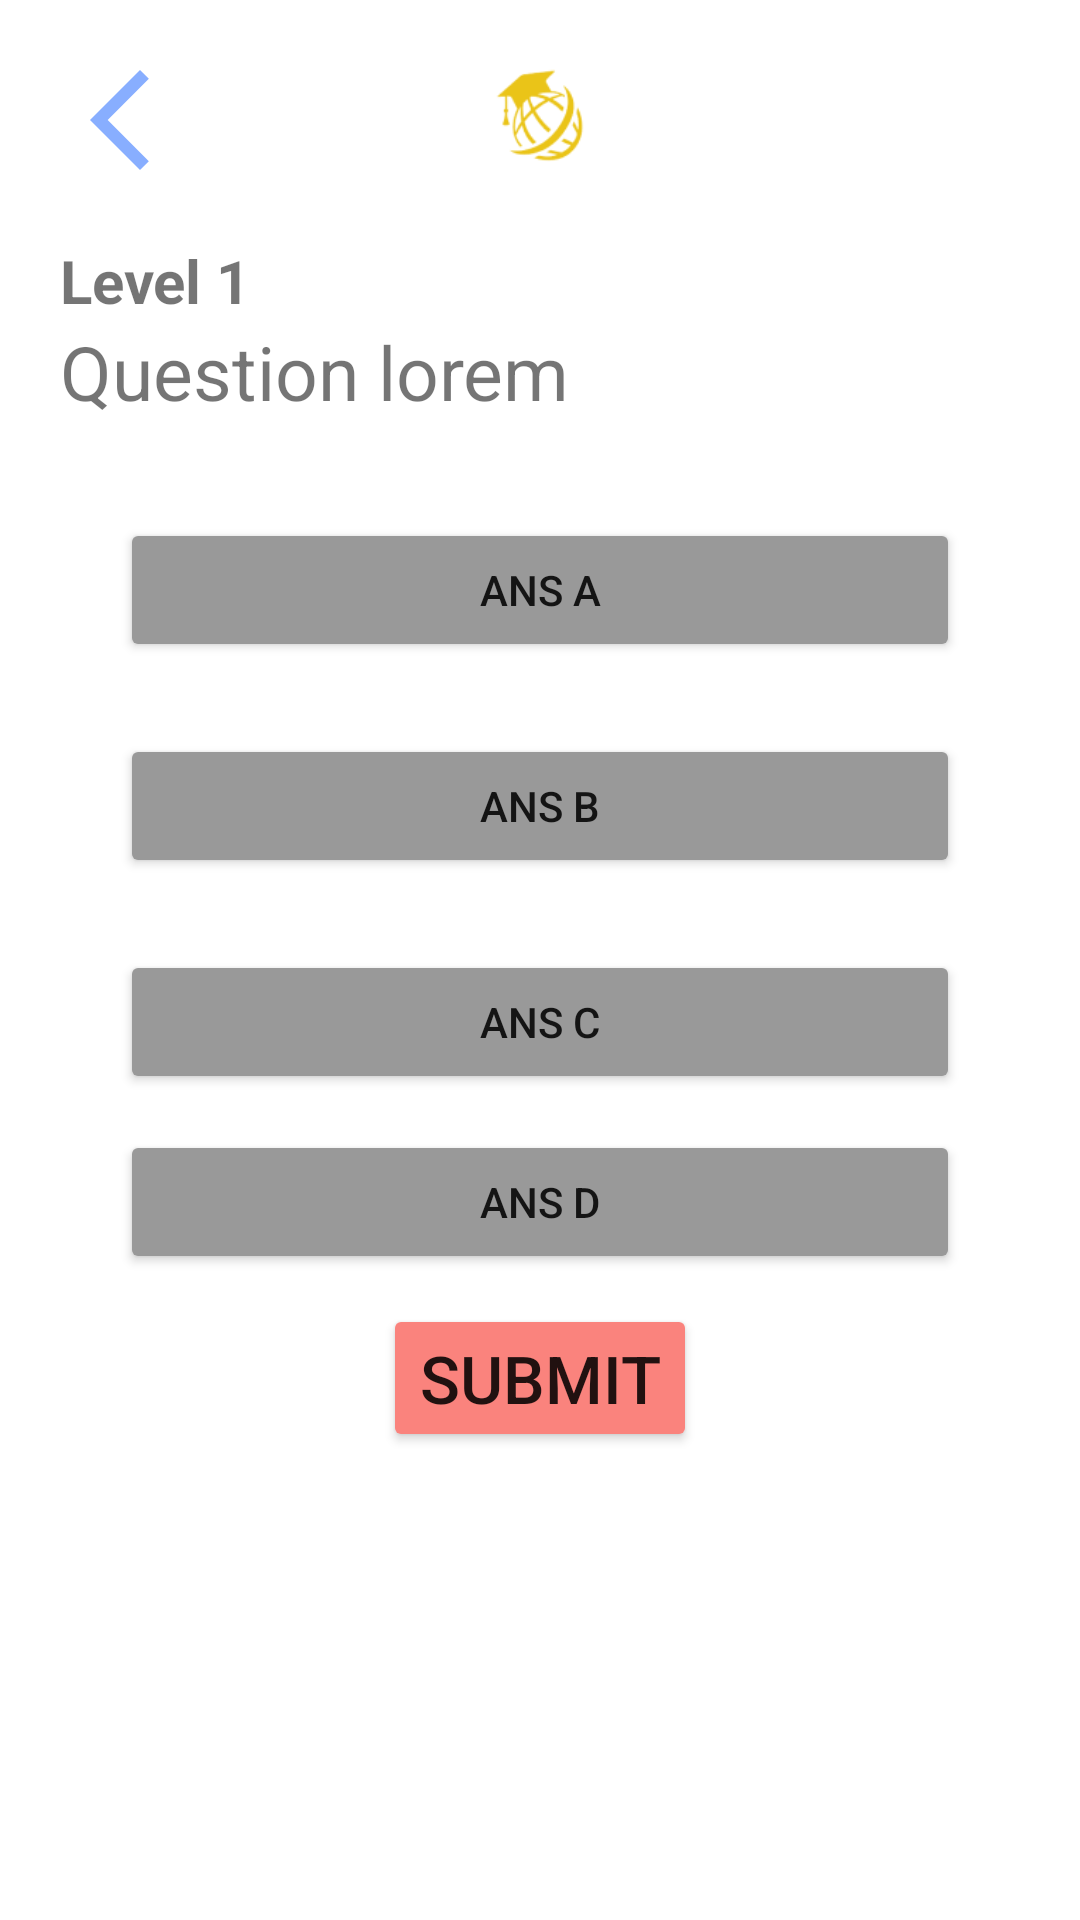

Point at icon controls on the screen. Image size 1080px x 1920px, points as [x,y].
arrow left: [119,120]
